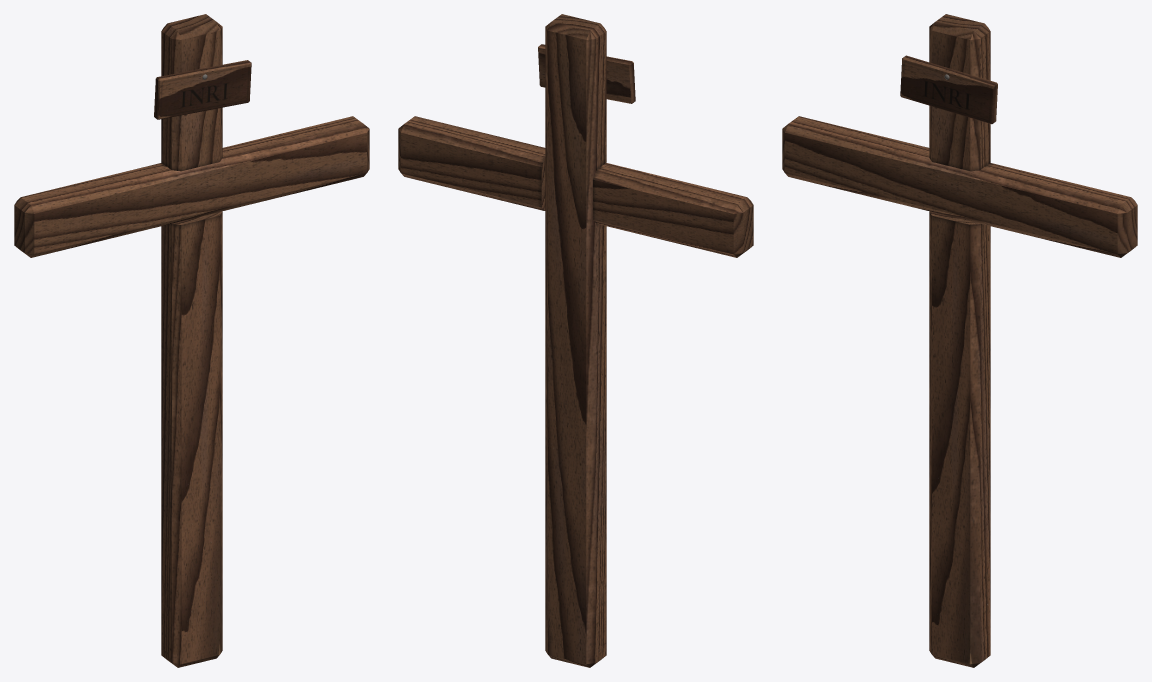
Rendered from crucifix.glb.
The picture shows the model from 3 angles, left to right: view 1: azimuth 30°, elevation 25°; view 2: azimuth 150°, elevation 25°; view 3: azimuth 330°, elevation 25°; orthographic projection.
Visible parts, largest first — view 1: cx_upright, cx_crossbar, cx_plaque; view 2: cx_upright, cx_crossbar, cx_plaque; view 3: cx_upright, cx_crossbar, cx_plaque.
Part boxes in pixels (<box>): cx_upright: <box>161,14,222,667</box>; cx_crossbar: <box>14,116,369,257</box>; cx_plaque: <box>154,60,251,119</box>; cx_upright: <box>545,14,606,667</box>; cx_crossbar: <box>398,116,753,257</box>; cx_plaque: <box>538,44,635,103</box>; cx_upright: <box>929,14,990,667</box>; cx_crossbar: <box>782,116,1137,257</box>; cx_plaque: <box>900,55,997,124</box>.
Bounding box in the file's own units: 0.17 × 0.3 × 0.0191.
4 materials, 3 textured.
